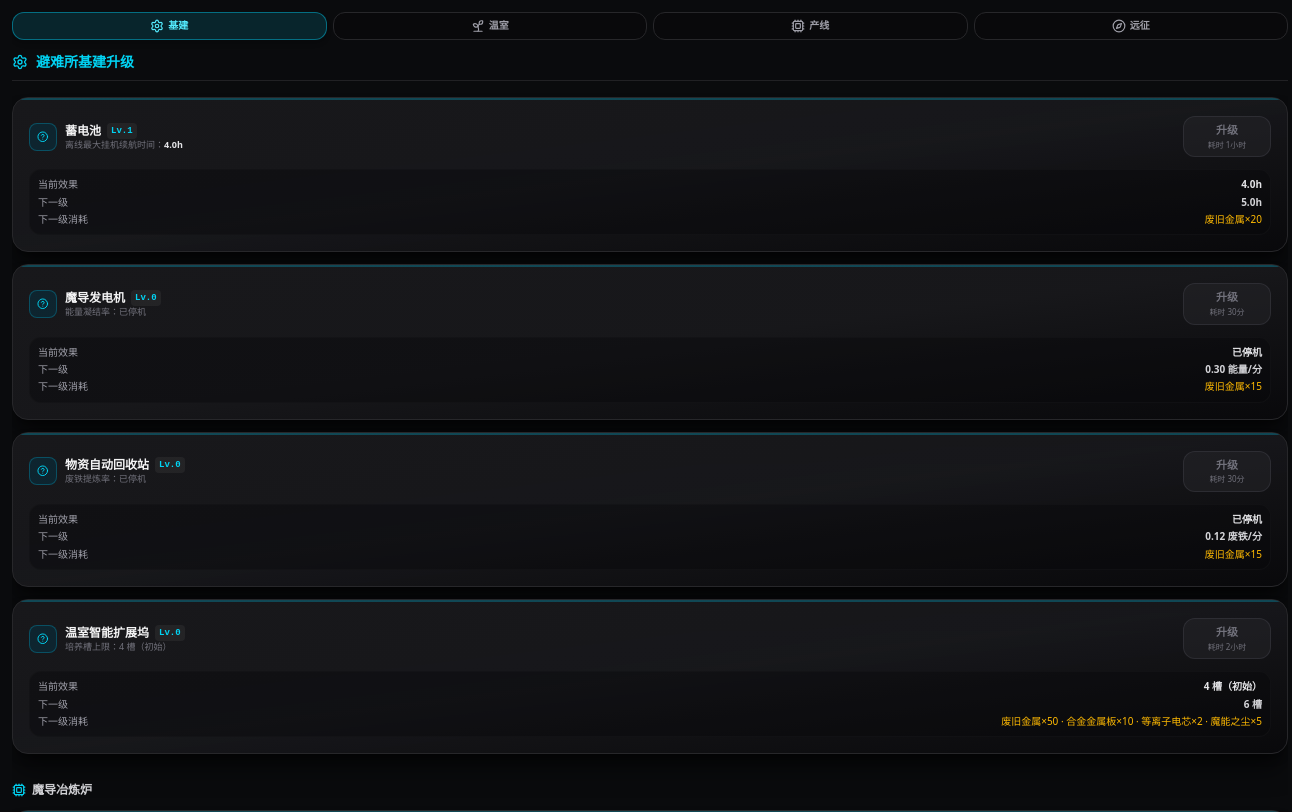
Test: ShelterTab Component UI - Integrated Greenhouse › should render the integrated greenhouse grid slots
Step 1. Click the button "温室" → (490,26), box x1=332 y1=12 x2=647 y2=40
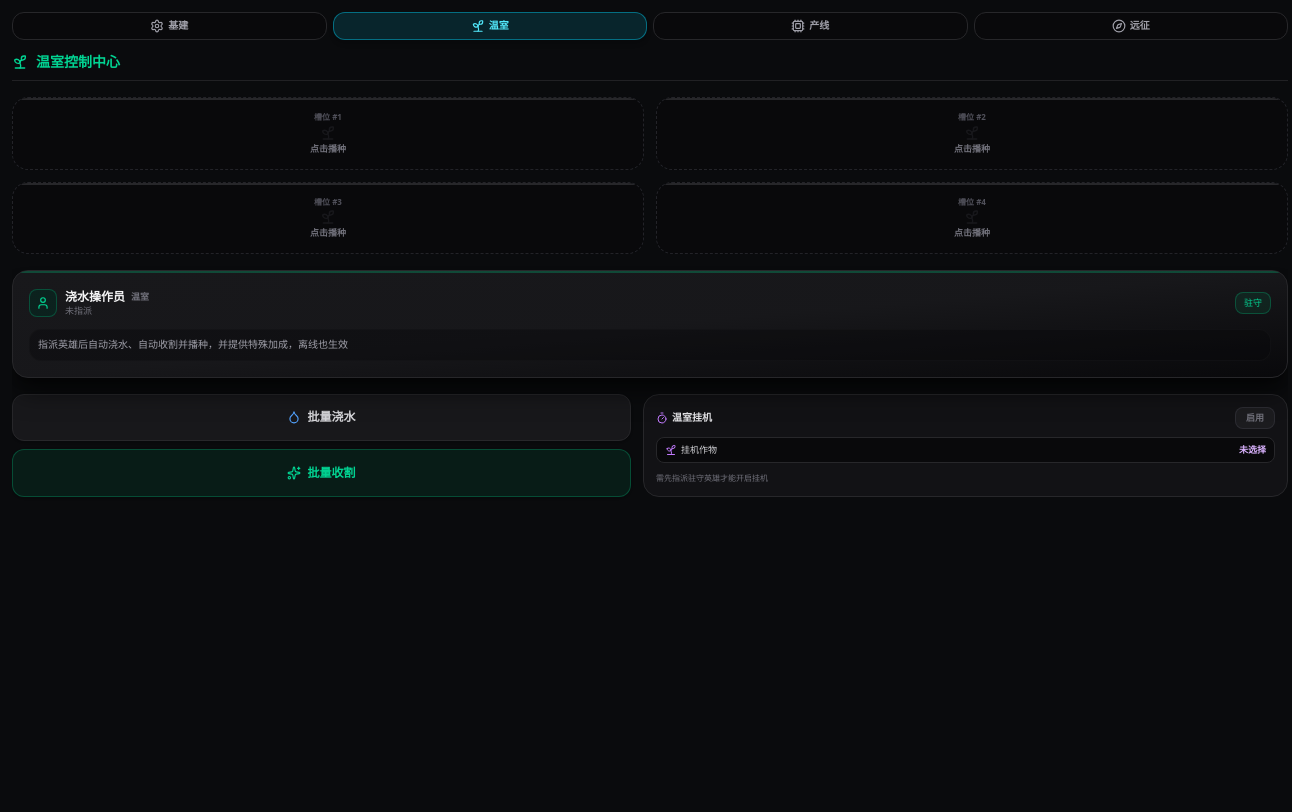
Now the text "槽位 #1" is shown 4 times, box x1=314 y1=112 x2=342 y2=123; x1=958 y1=112 x2=986 y2=123; x1=314 y1=197 x2=342 y2=207; x1=958 y1=197 x2=986 y2=207
